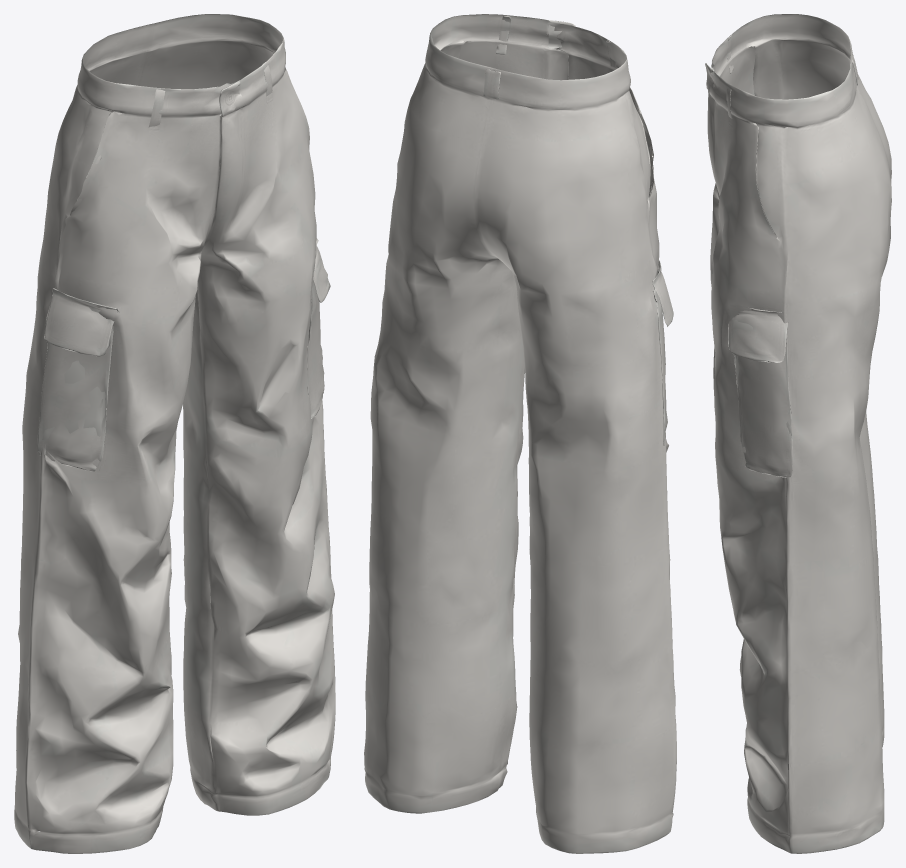
The model's file is calca.glb.
The picture shows the model from 3 angles, left to right: view 1: azimuth 30°, elevation 25°; view 2: azimuth 150°, elevation 25°; view 3: azimuth 270°, elevation 25°; orthographic projection. The views are drawn at different scales.
Visible parts, largest first — view 1: Mesh_0; view 2: Mesh_0; view 3: Mesh_0.
Part boxes in pixels (x1,y1,x2,y2): Mesh_0: [14, 14, 335, 853]; Mesh_0: [364, 14, 676, 853]; Mesh_0: [705, 14, 891, 853].
Bounding box in the file's own units: 0.3999 × 0.9512 × 0.2207.
Materials: 1 (1 with a texture image).
